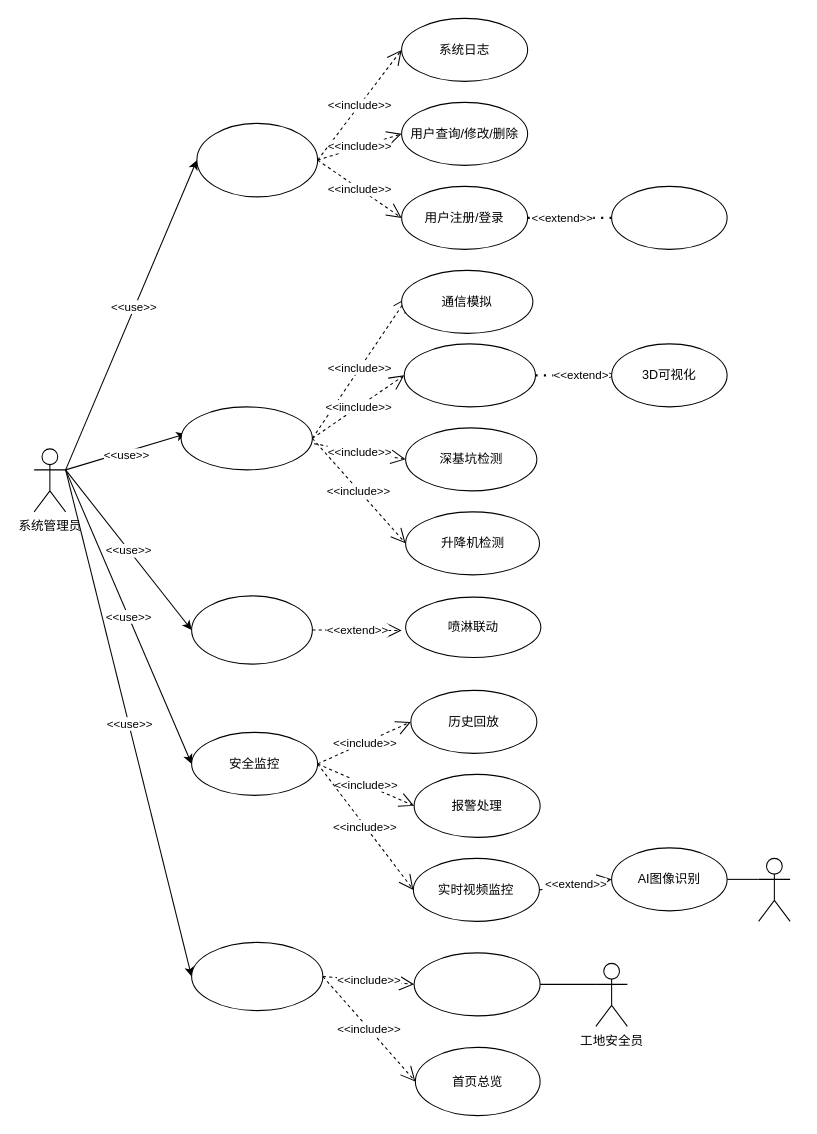
The diagram is 817 pixels wide and 1134 high, and some of its shapes have lost their labels. The shapes that lost their labels are listed below. From the top down, each one's centre as x and y in pixels, then its label:
At (x=257, y=159): "用户管理".
At (x=669, y=217): "身份验证".
At (x=469, y=375): "塔吊检测".
At (x=246, y=438): "设备管理".
At (x=251, y=629): "环境管理".
At (x=774, y=889): "作业人员".
At (x=257, y=976): "报表中心".
At (x=476, y=984): "安全报告".
